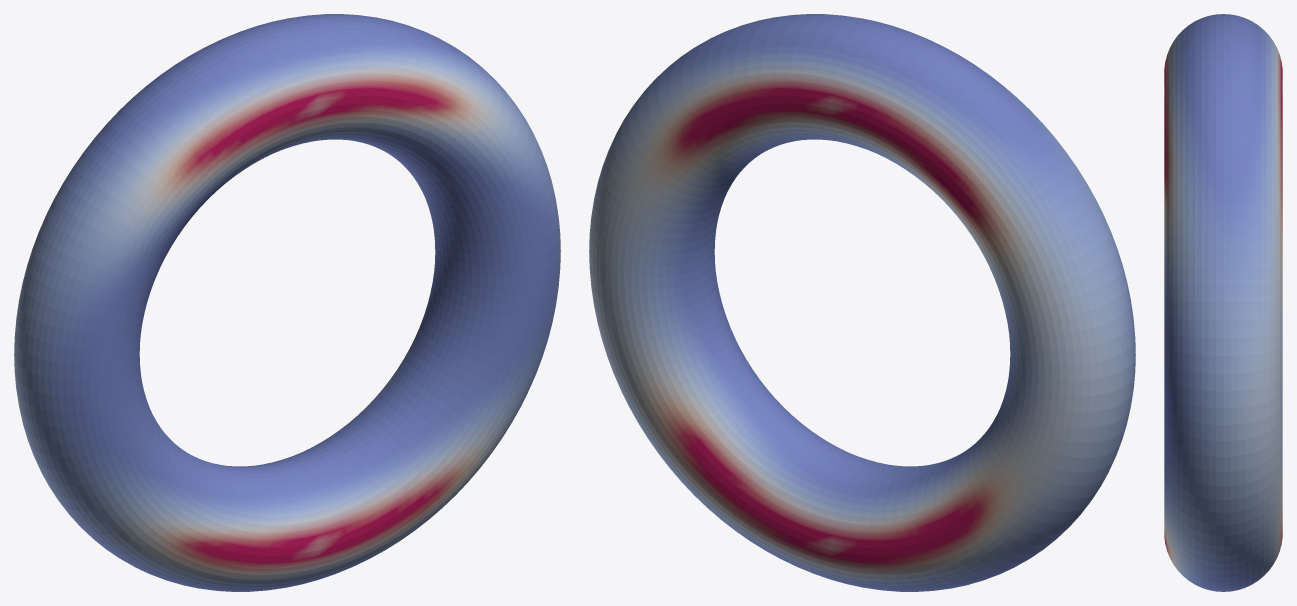
The picture shows the model from 3 angles, left to right: view 1: azimuth 30°, elevation 25°; view 2: azimuth 150°, elevation 25°; view 3: azimuth 270°, elevation 25°; orthographic projection. The views are drawn at different scales.
Parts seen in each view (by area): view 1: world; view 2: world; view 3: world.
Part boxes in pixels (x1,y1,x2,y2): world: [14, 14, 560, 591]; world: [589, 14, 1135, 591]; world: [1164, 14, 1282, 591].
Size of the model in its own units: 20.13 by 20.13 by 4.13.
